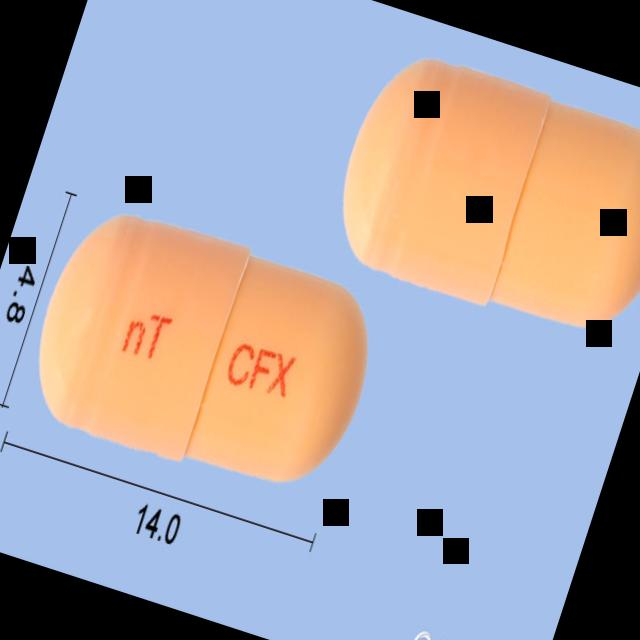Clara: (15, 198, 392, 511), (318, 41, 640, 355)
